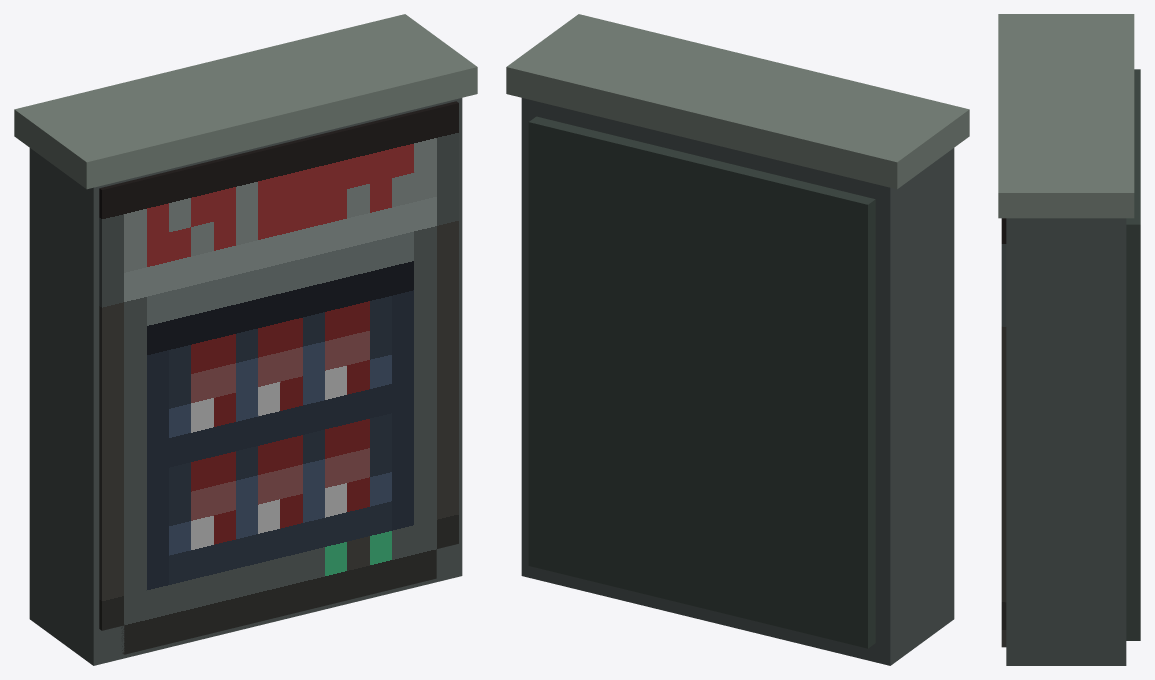
Rendered from CMU3DInteriorVehicleHumveeBloodVendor.glb.
The picture shows the model from 3 angles, left to right: view 1: azimuth 30°, elevation 25°; view 2: azimuth 150°, elevation 25°; view 3: azimuth 270°, elevation 25°; orthographic projection. The views are drawn at different scales.
Parts seen in each view (by area): view 1: source equipment controls, reinforced top, closed equipment casing; view 2: rear service plate, closed equipment casing, reinforced top; view 3: closed equipment casing, reinforced top, rear service plate, source equipment controls.
Boxes of the visible parts, <box> form: source equipment controls: <box>99,101,458,654</box>; reinforced top: <box>14,14,477,189</box>; closed equipment casing: <box>29,98,462,665</box>; rear service plate: <box>528,116,875,648</box>; closed equipment casing: <box>521,98,954,665</box>; reinforced top: <box>506,14,969,189</box>; closed equipment casing: <box>1006,218,1126,665</box>; reinforced top: <box>998,14,1134,218</box>; rear service plate: <box>1126,69,1140,640</box>; source equipment controls: <box>1001,218,1006,647</box>.
Size of the model in its own units: 0.53 by 0.66 by 0.178.
4 materials, 1 textured.
